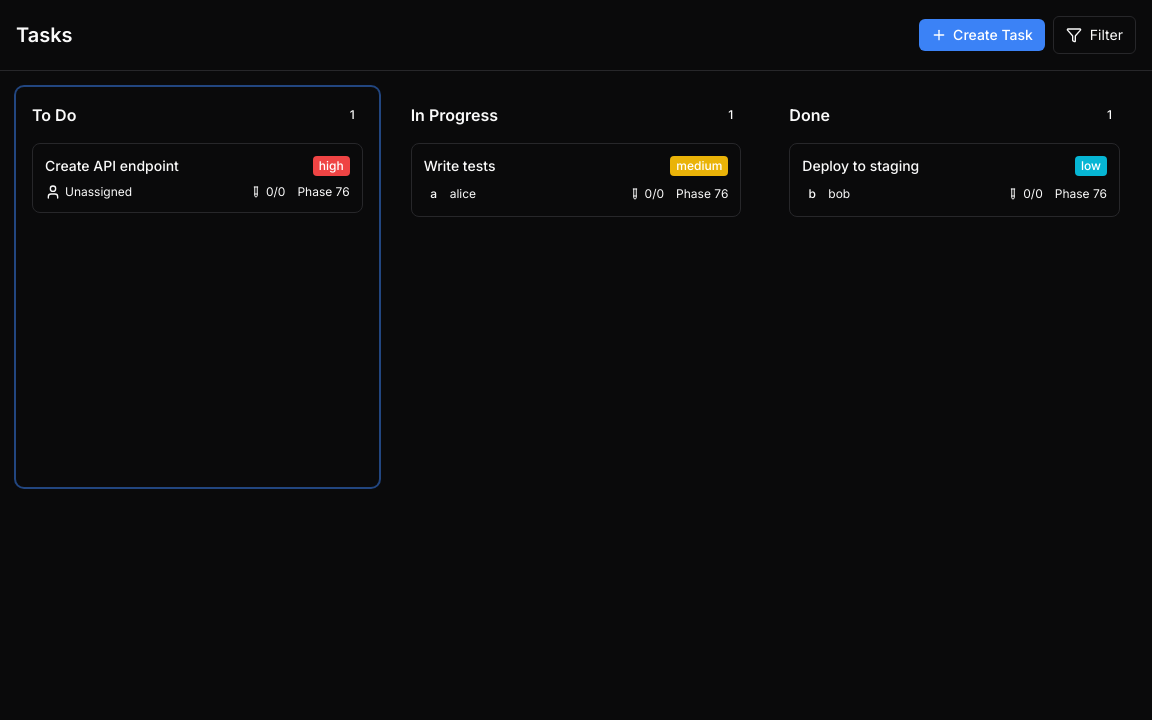
TasksPage › detail panel shows Claim button for unassigned tasks
// Click the unassigned task
Click the heading "Create API endpoint" at [112, 166], box [45,156,179,176]
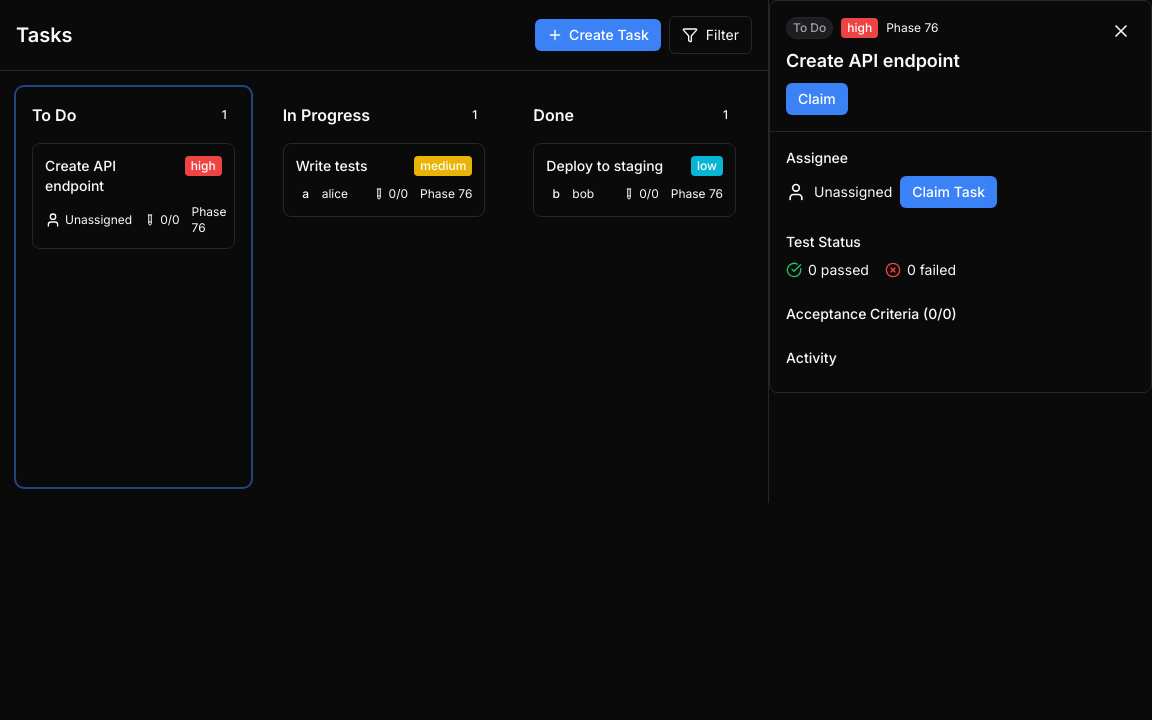
Result: the text "Claim" is shown at [798,89,836,109]
